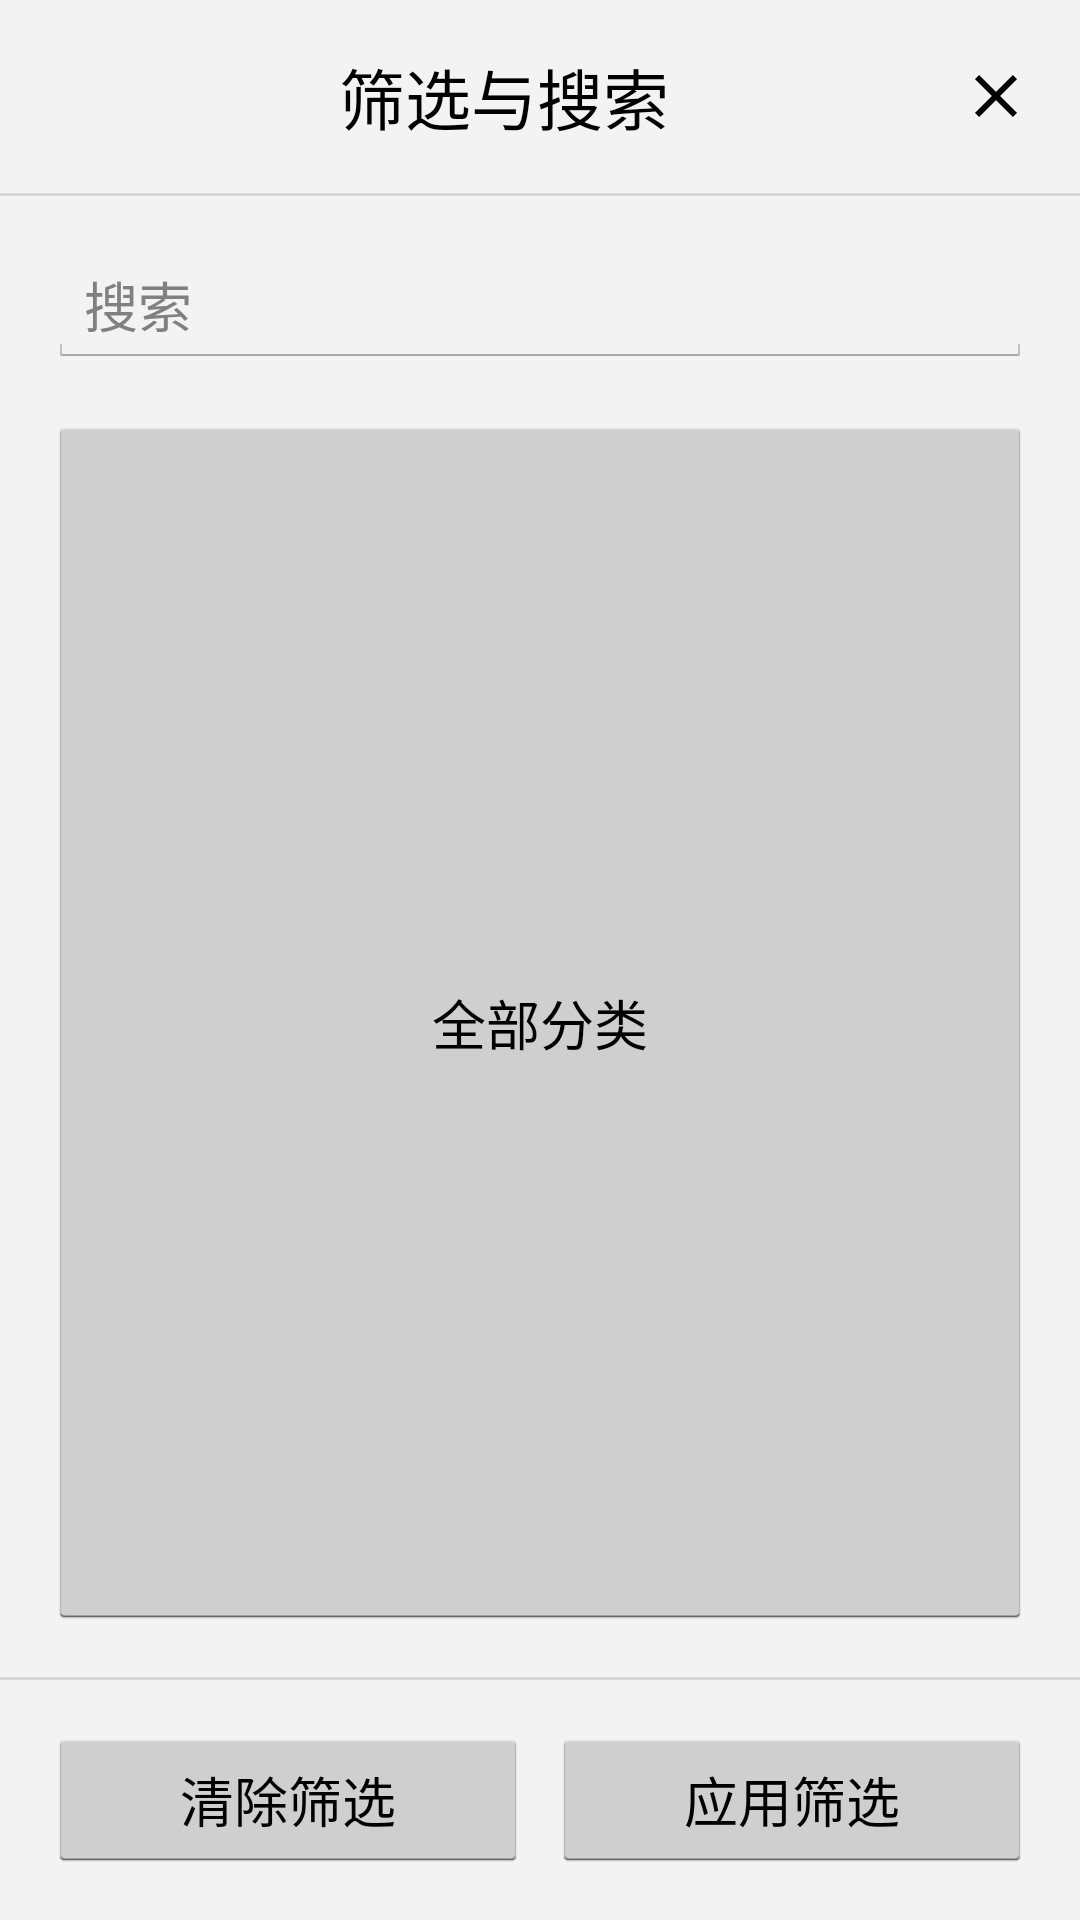

Named icons in this screenshot (1080px x 1920px) and their bounding boxes, (x1, y1, x2, y2):
取消: (975, 75, 1017, 117)
